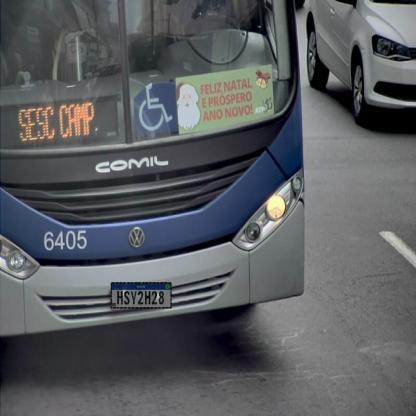PlacaM: (110, 282, 172, 309)
